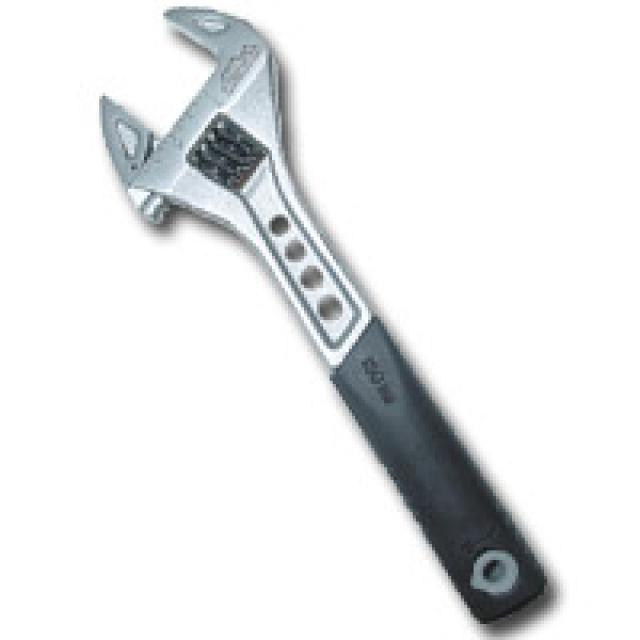wrench: (14, 0, 576, 608)
